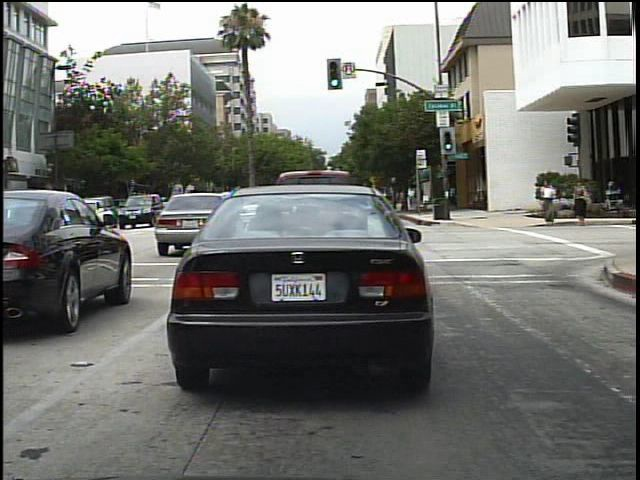person: (536, 175, 563, 230), (568, 175, 594, 229), (402, 185, 420, 216)
